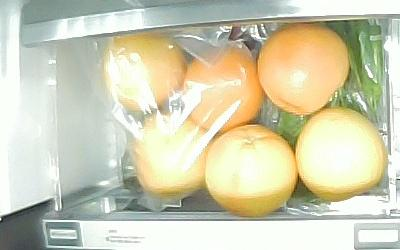grapefruit: (204, 125, 300, 219), (295, 107, 387, 202), (258, 21, 351, 114)
grapefruit_vinyl: (184, 44, 265, 133), (133, 112, 209, 200), (101, 34, 185, 113)
